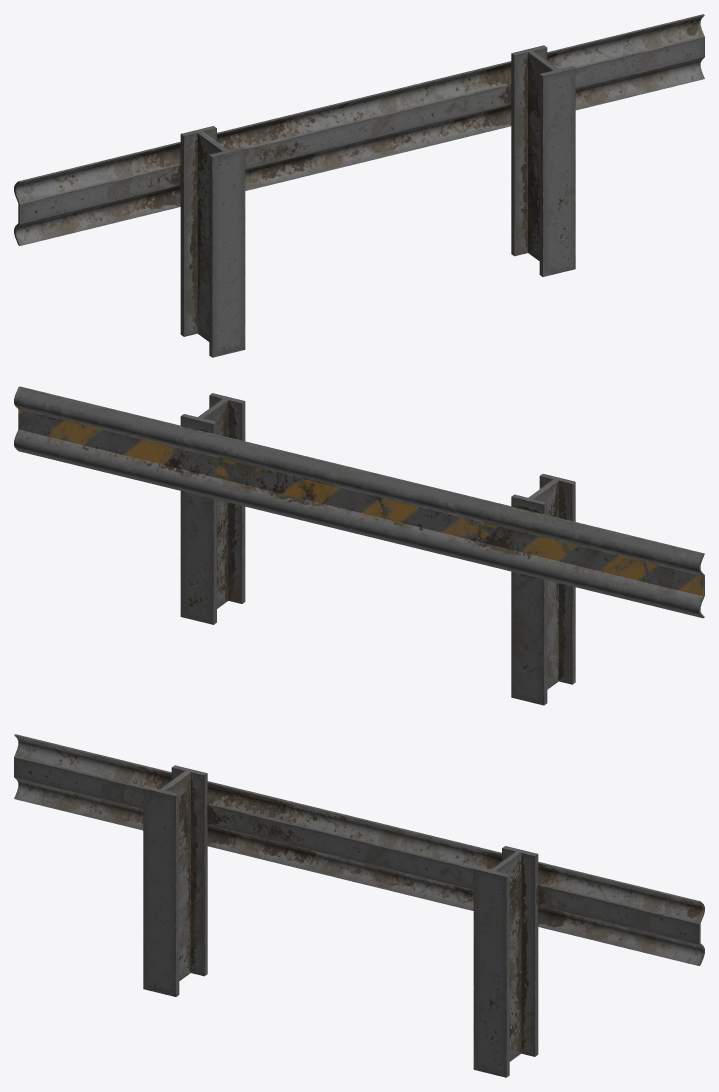
Rendered from metal_crash_barrier.glb.
3 views of the same model, one above another, from view 1: azimuth 30°, elevation 25°; view 2: azimuth 150°, elevation 25°; view 3: azimuth 330°, elevation 25° (orthographic).
Parts seen in each view (by area): view 1: Metal_Crash_Barrier_01; view 2: Metal_Crash_Barrier_01; view 3: Metal_Crash_Barrier_01.
Boxes of the visible parts, bbox=[...] form: Metal_Crash_Barrier_01: bbox=[14, 14, 704, 357]; Metal_Crash_Barrier_01: bbox=[14, 386, 704, 705]; Metal_Crash_Barrier_01: bbox=[14, 734, 704, 1077].
Size of the model in its own units: 4.36 by 1.22 by 0.4132.
1 material, 1 textured.
